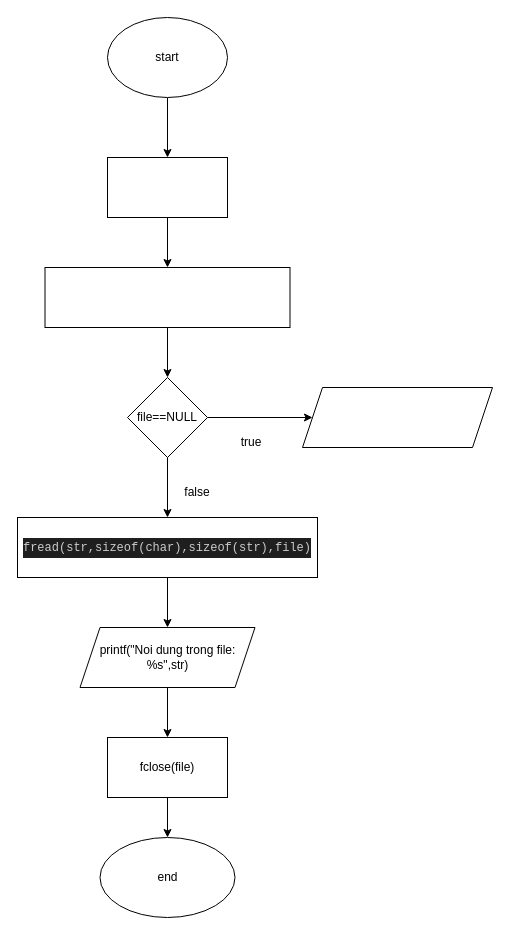
The diagram is 510 pixels wide and 935 high, and some of its shapes have lost their labels. Here are the shapes that lost their labels. From the top down, the centre of each, then its label:
the point at 167,187: FILE *file char str[100]
the point at 167,297: file = fopen("bt03.txt","r")
the point at 397,417: printf("Khong the mo file!")
